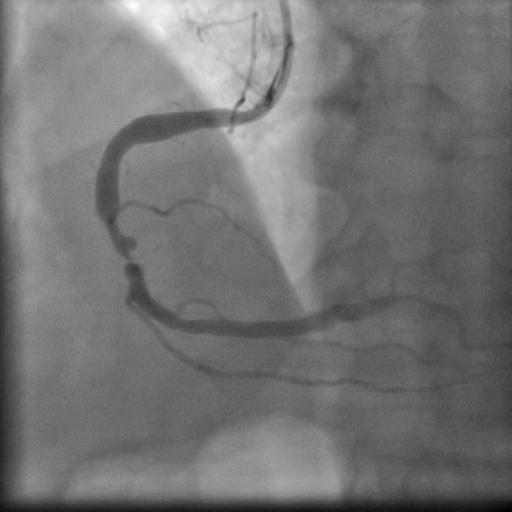Stenosis: (107, 241, 149, 272)
